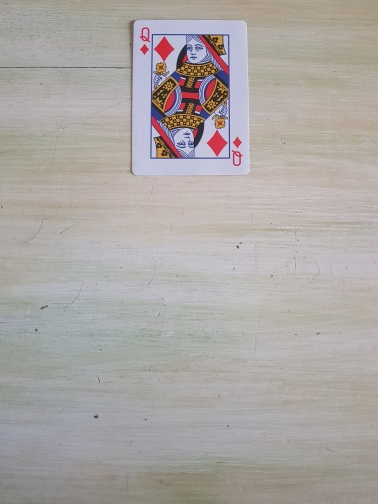queen: (130, 19, 251, 177)
